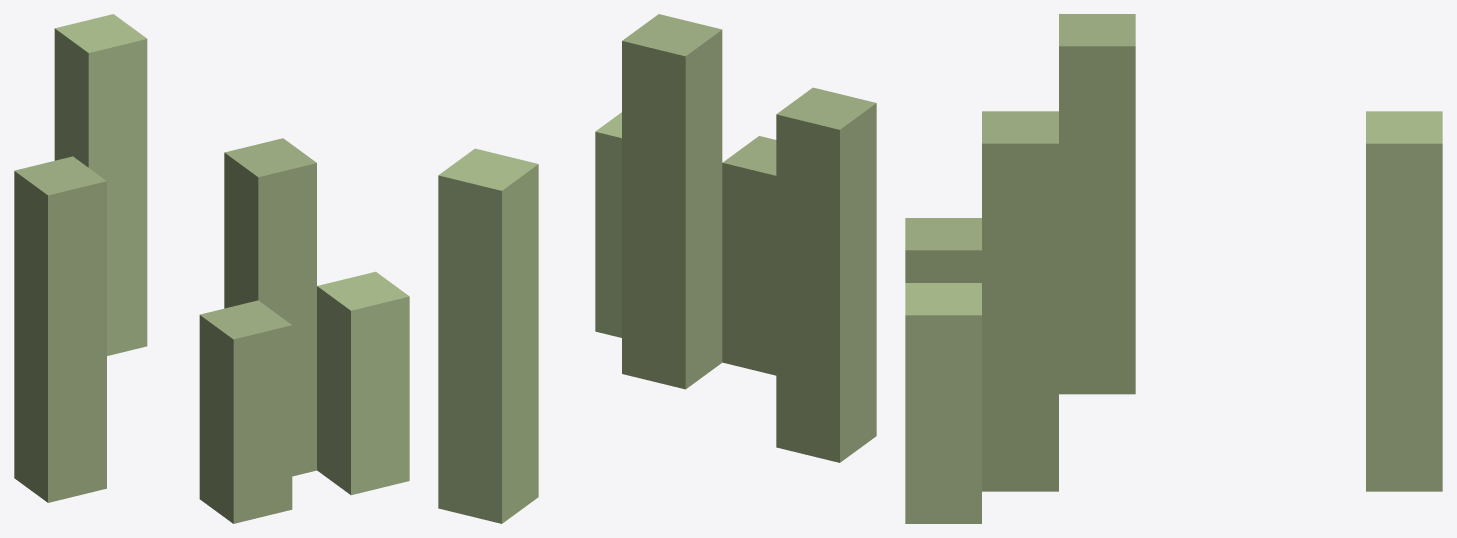
Rendered from muerdago_03.glb.
3 renders of one model, left to right at view 1: azimuth 30°, elevation 25°; view 2: azimuth 150°, elevation 25°; view 3: azimuth 270°, elevation 25°, orthographic. The views are drawn at different scales.
Parts seen in each view (by area): view 1: muerdago_03; view 2: muerdago_03; view 3: muerdago_03.
Part boxes in pixels (bbox=[...]): muerdago_03: bbox=[14, 14, 409, 523]; muerdago_03: bbox=[438, 14, 876, 523]; muerdago_03: bbox=[905, 14, 1442, 523].
Size of the model in its own units: 0.5 by 0.5 by 0.7.
